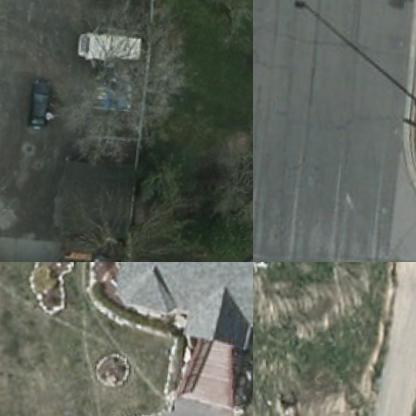car: (30, 74, 58, 130)
